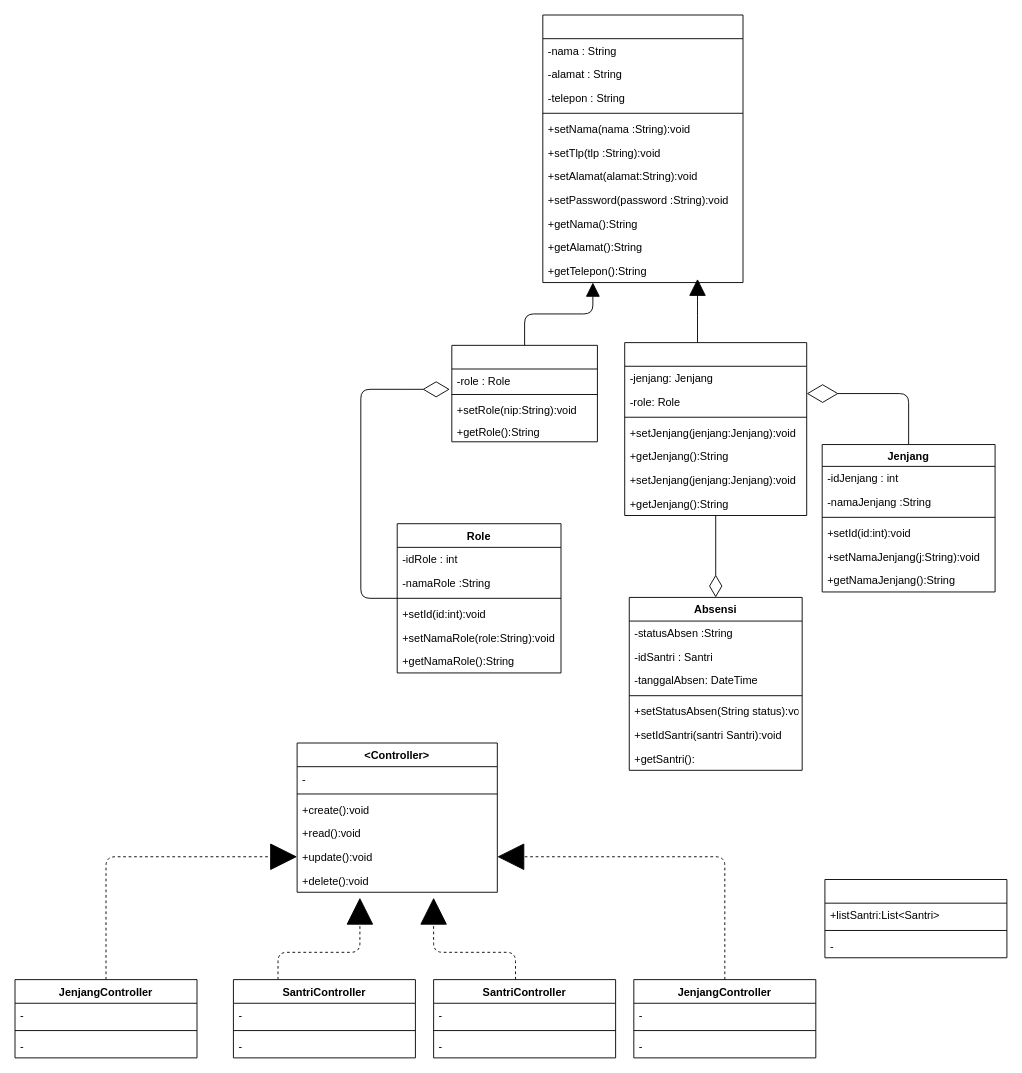
The diagram is 1022 pixels wide and 1073 high, and some of its shapes have lost their labels. Here are the shapes that lost their labels. From the top down, the box of each, then its label:
(542, 14, 743, 283): User
(451, 344, 597, 442): Pengajar
(624, 342, 807, 516): Santri
(824, 879, 1007, 958): Data
